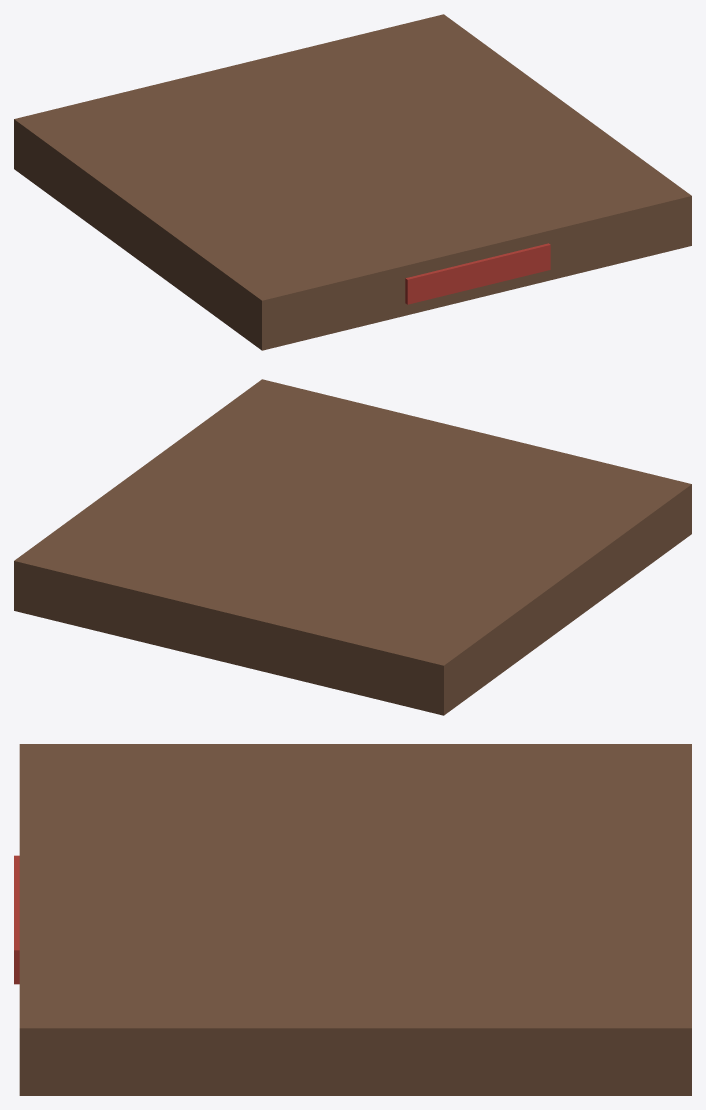
The model's file is FD_PizzaBox_01.glb.
3 renders of one model, top to bottom at view 1: azimuth 30°, elevation 25°; view 2: azimuth 150°, elevation 25°; view 3: azimuth 270°, elevation 25°, orthographic. The views are drawn at different scales.
Parts seen in each view (by area): view 1: FD_PizzaBox_01; view 2: FD_PizzaBox_01; view 3: FD_PizzaBox_01.
Boxes of the visible parts, left/top/right/bottom form: FD_PizzaBox_01: left=14, top=14, right=691, bottom=350; FD_PizzaBox_01: left=14, top=379, right=691, bottom=715; FD_PizzaBox_01: left=14, top=744, right=691, bottom=1095.
Bounding box in the file's own units: 0.36 × 0.04 × 0.363.
1 material, 1 textured.
